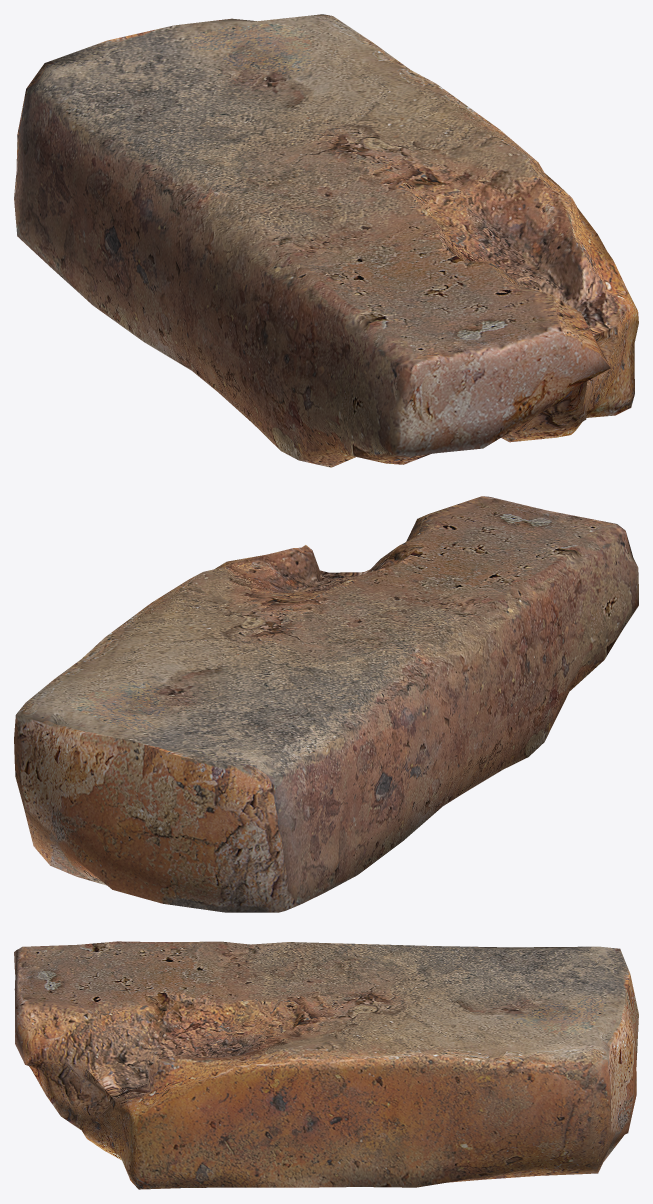
The model's file is sm_Brick_01_03.fbx.
The picture shows the model from 3 angles, top to bottom: view 1: azimuth 30°, elevation 25°; view 2: azimuth 150°, elevation 25°; view 3: azimuth 270°, elevation 25°; orthographic projection. The views are drawn at different scales.
Visible parts, largest first — view 1: sm_Brick_01_03_LOD0; view 2: sm_Brick_01_03_LOD0; view 3: sm_Brick_01_03_LOD0.
Boxes of the visible parts, box(x1,y1,x2,y2) form: sm_Brick_01_03_LOD0: box(14, 14, 638, 467); sm_Brick_01_03_LOD0: box(14, 496, 638, 912); sm_Brick_01_03_LOD0: box(14, 941, 638, 1189).
Size of the model in its own units: 12.24 by 25.58 by 6.59.
